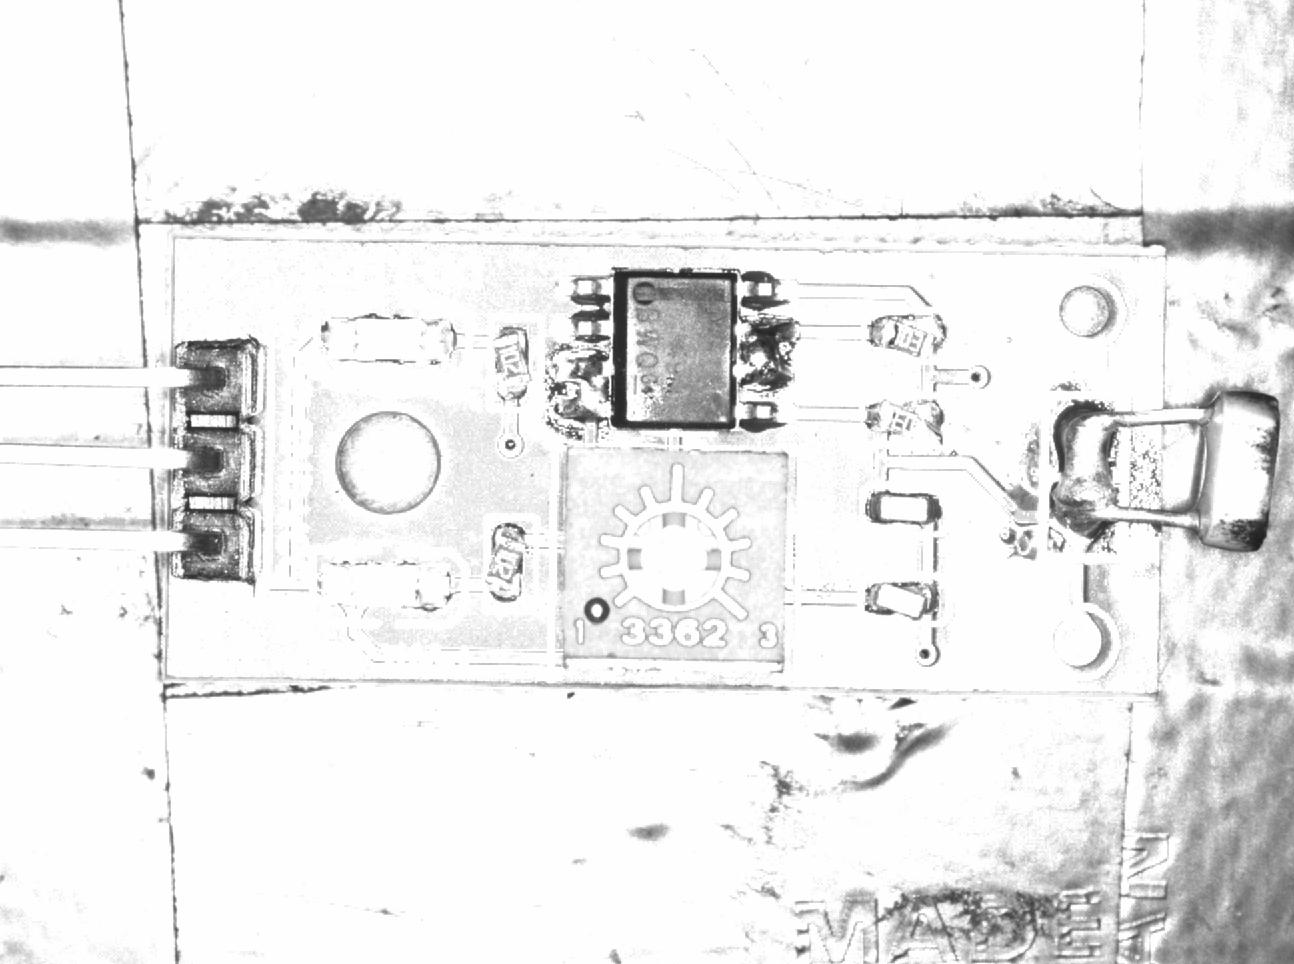bridge: (1041, 390, 1118, 560), (541, 346, 614, 436), (735, 311, 801, 395)
lifted: (484, 514, 534, 611), (861, 391, 949, 441), (862, 309, 948, 360), (858, 575, 947, 624), (491, 317, 536, 406)
ok: (859, 485, 952, 532)
